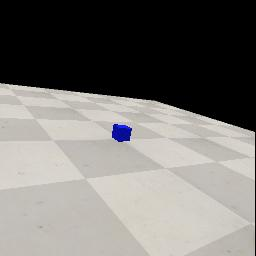box: (112, 124, 132, 142)
